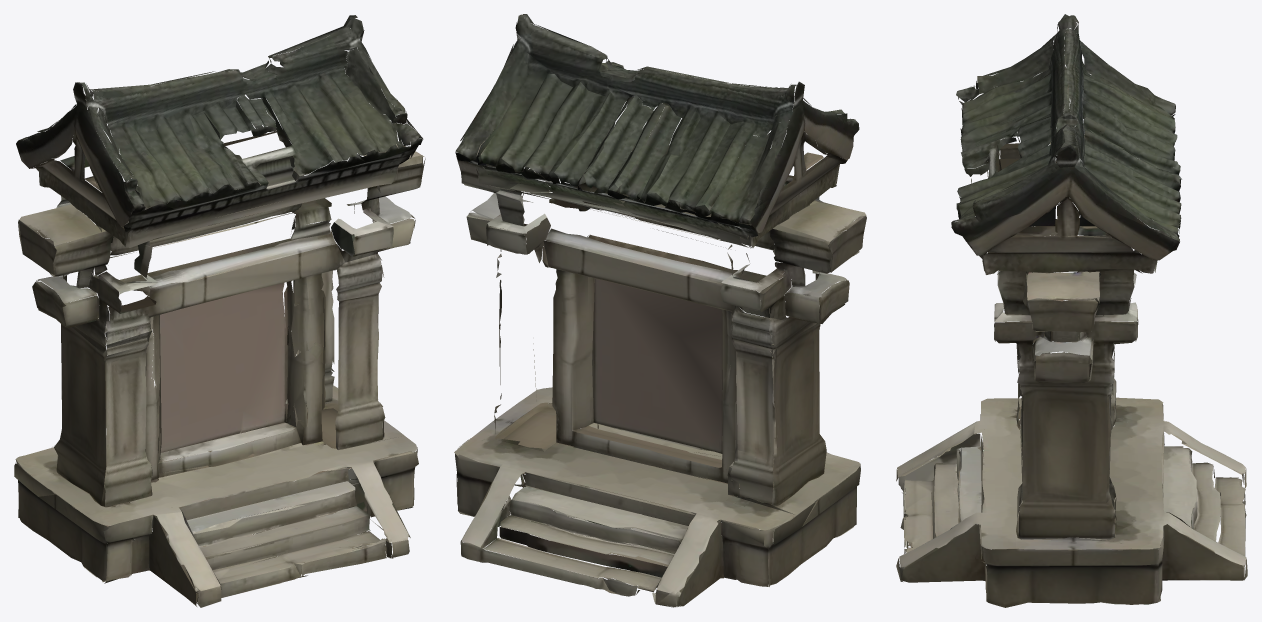
Rendered from corridorGate.glb.
The picture shows the model from 3 angles, left to right: view 1: azimuth 30°, elevation 25°; view 2: azimuth 150°, elevation 25°; view 3: azimuth 270°, elevation 25°; orthographic projection. The views are drawn at different scales.
Parts seen in each view (by area): view 1: Prop_corridorGate; view 2: Prop_corridorGate; view 3: Prop_corridorGate.
Boxes of the visible parts, x1,y1,x2,y2 form: Prop_corridorGate: [14, 15, 425, 607]; Prop_corridorGate: [454, 14, 866, 607]; Prop_corridorGate: [896, 14, 1247, 607].
Bounding box in the file's own units: 4.58 × 5.52 × 3.85.
1 material, 1 textured.
